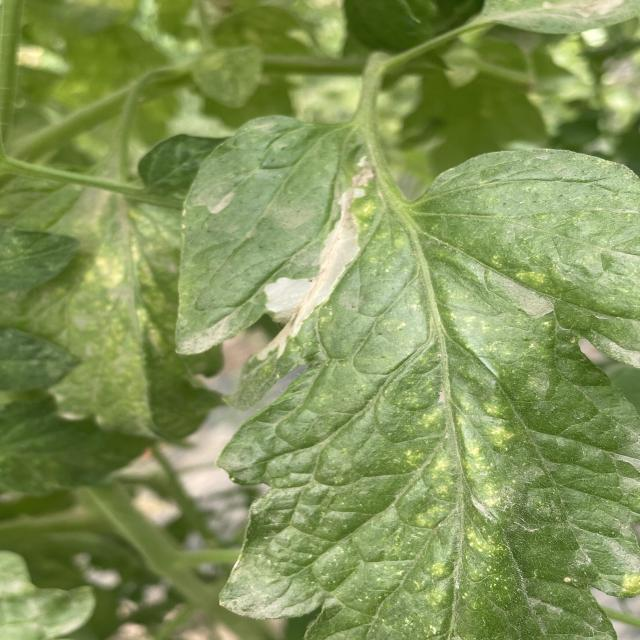Tuta absoluta: (227, 162, 409, 369)
